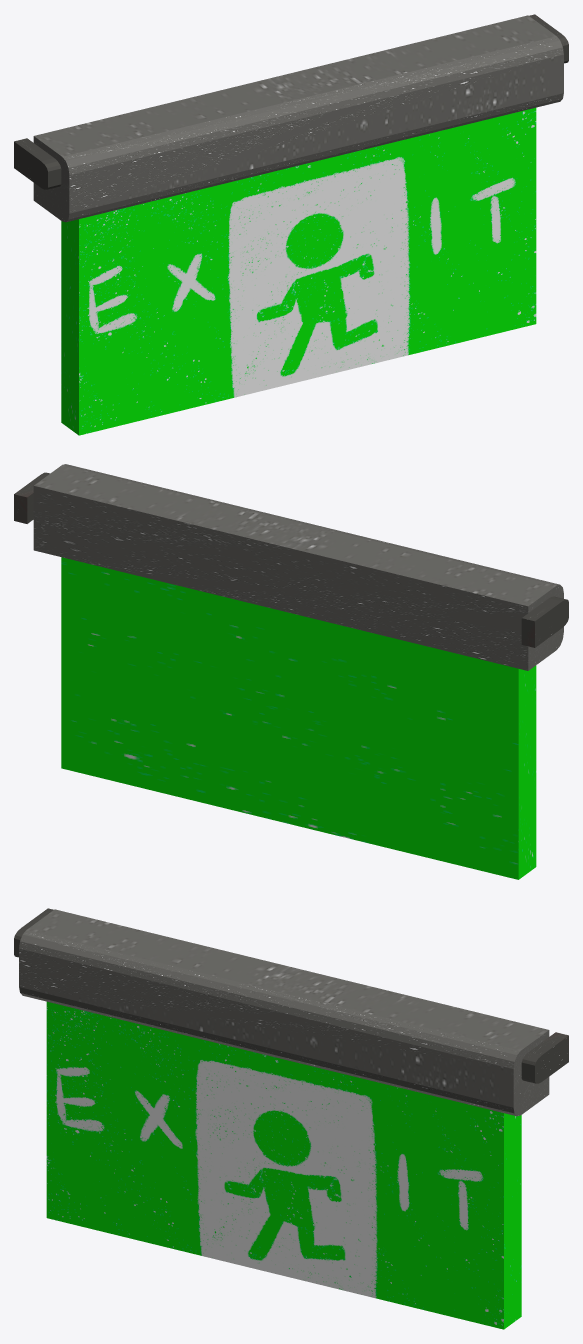
File: Exlt Light.fbx
The picture shows the model from 3 angles, top to bottom: view 1: azimuth 30°, elevation 25°; view 2: azimuth 150°, elevation 25°; view 3: azimuth 330°, elevation 25°; orthographic projection.
Parts seen in each view (by area): view 1: 立方體.002; view 2: 立方體.002; view 3: 立方體.002.
Boxes of the visible parts, bbox=[...] form: 立方體.002: bbox=[14, 14, 568, 435]; 立方體.002: bbox=[14, 464, 568, 879]; 立方體.002: bbox=[14, 908, 568, 1329].
Bounding box in the file's own units: 42.14 × 22 × 5.91.
